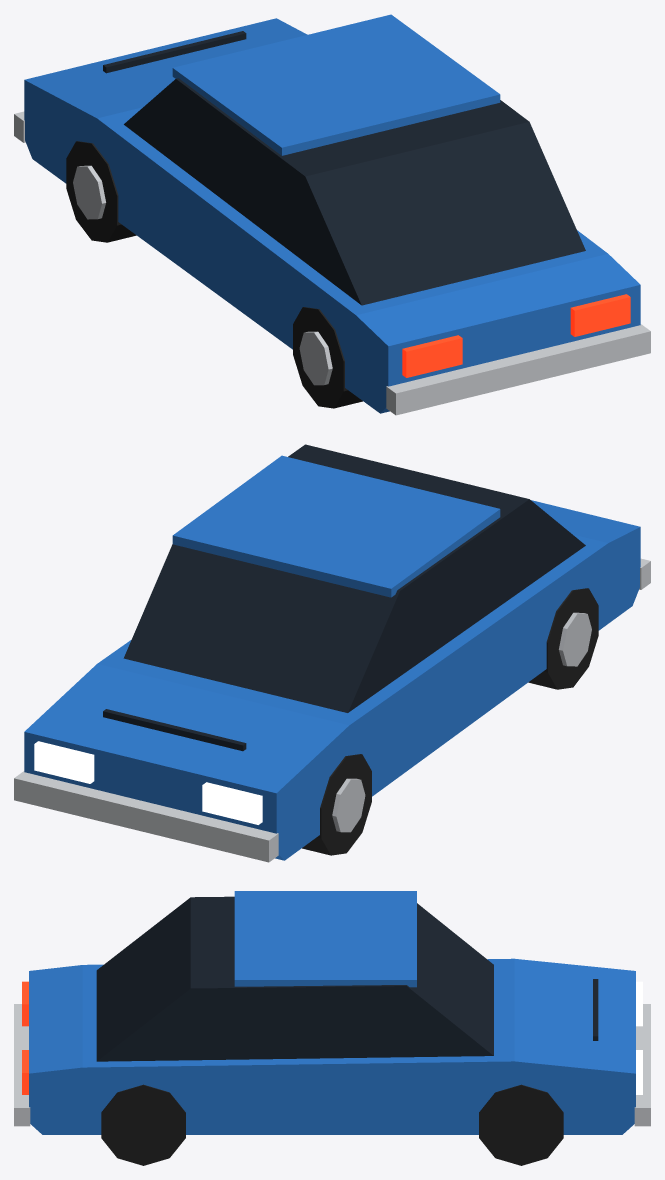
File: car_sedan.glb
The picture shows the model from 3 angles, top to bottom: view 1: azimuth 30°, elevation 25°; view 2: azimuth 150°, elevation 25°; view 3: azimuth 270°, elevation 25°; orthographic projection. The views are drawn at different scales.
Parts seen in each view (by area): view 1: car_sedan; view 2: car_sedan; view 3: car_sedan.
Part boxes in pixels (x1,y1,x2,y2): car_sedan: (14, 14, 650, 415); car_sedan: (14, 444, 650, 862); car_sedan: (14, 891, 650, 1165).
Size of the model in its own units: 1.85 by 1.46 by 4.72.
